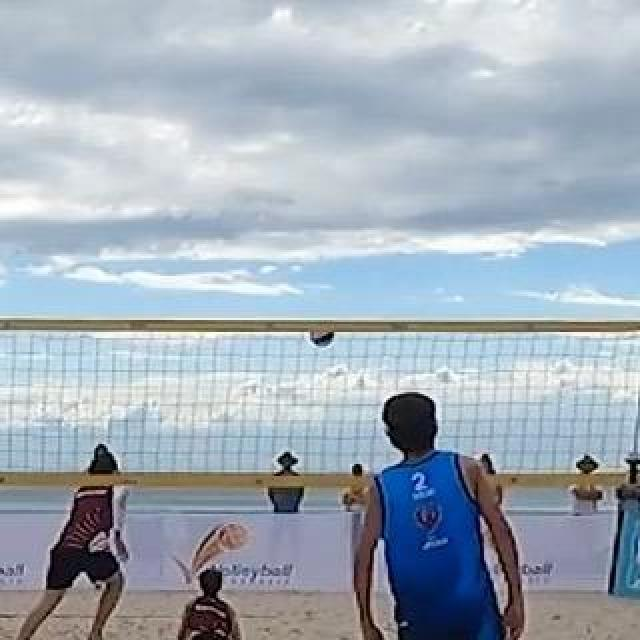volleyball: (309, 321, 335, 347)
